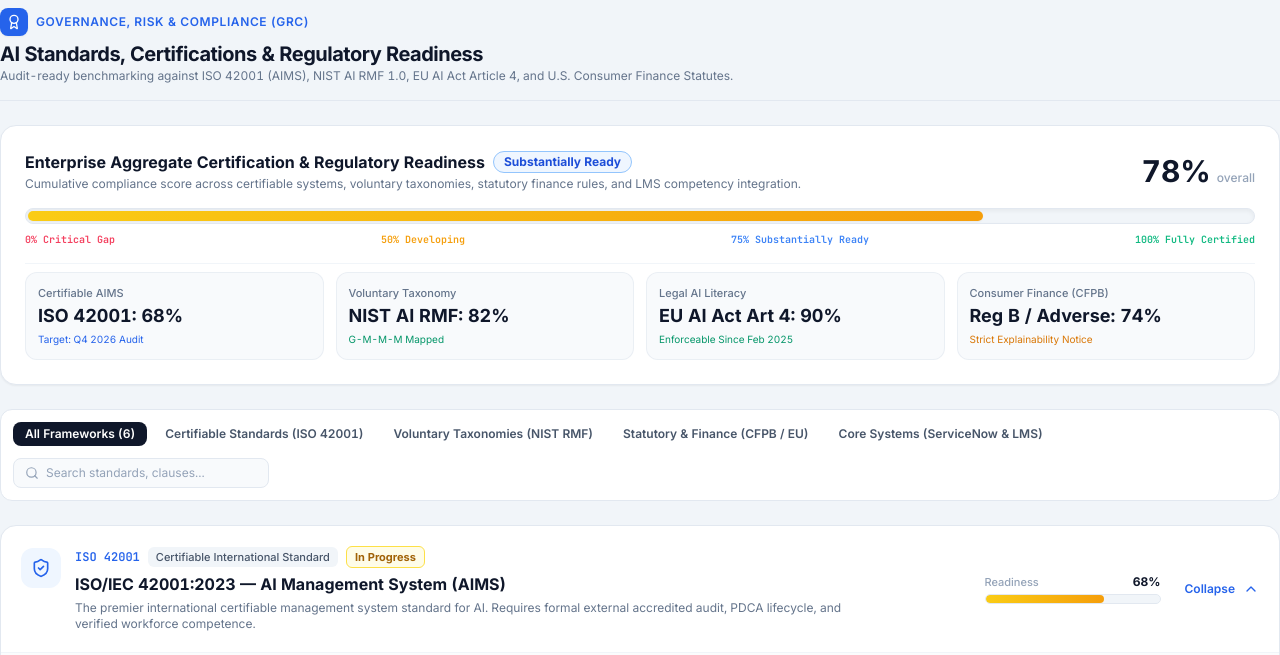
Test case: Certification & Regulatory Readiness Cockpit › filters frameworks by category buttons
// Filter by Certifiable Standards (ISO 42001 only)
What coordinates should you click on to do the following:
click the button "Certifiable Standards (ISO 42001)"
I would click on:
 (264, 434)
Its box is [153,422,376,446].
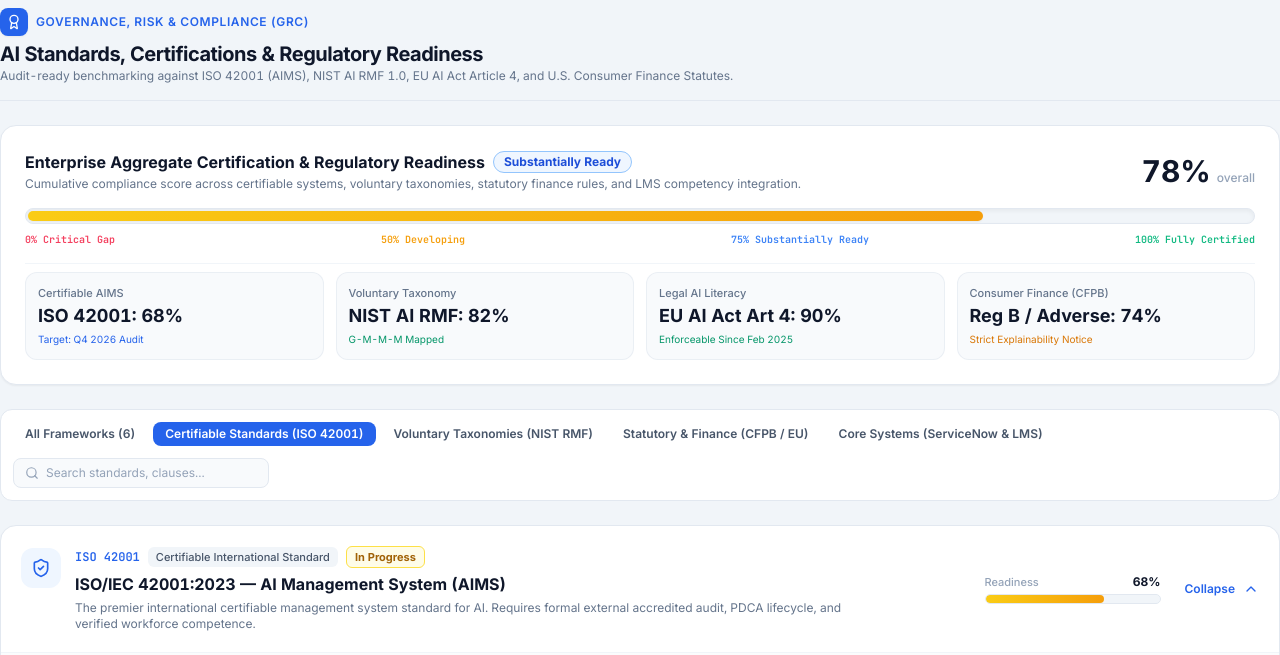
Expected: the heading "ISO/IEC 42001:2023 — AI Management System (AIMS)" is shown, [75,574,506,594]
// Filter by Statutory & Finance (CFPB / EU)
What coordinates should you click on to do the following:
click the button "Statutory & Finance (CFPB / EU)"
I would click on:
 (716, 434)
Its box is [611,422,821,446].
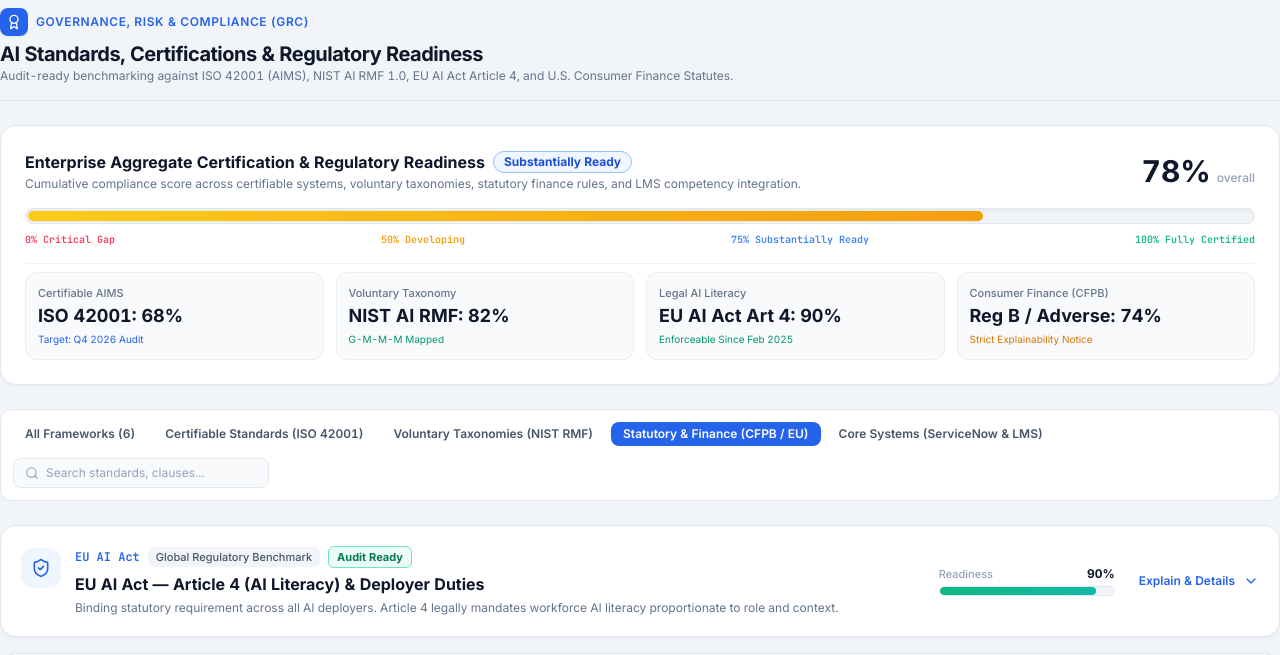
Result: the heading "EU AI Act — Article 4 (AI Literacy) & Deployer Duties" is shown at [75,574,485,594]
Result: the button "ISO/IEC 42001:2023" is gone
